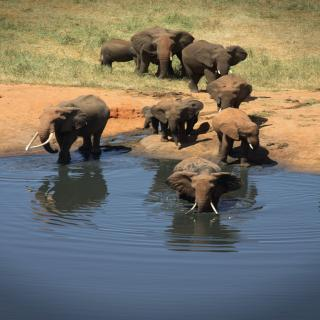Elephant: (25, 94, 115, 166), (164, 154, 242, 218), (180, 37, 250, 91), (127, 23, 193, 80), (210, 107, 273, 166), (145, 96, 200, 149), (207, 73, 255, 113)
